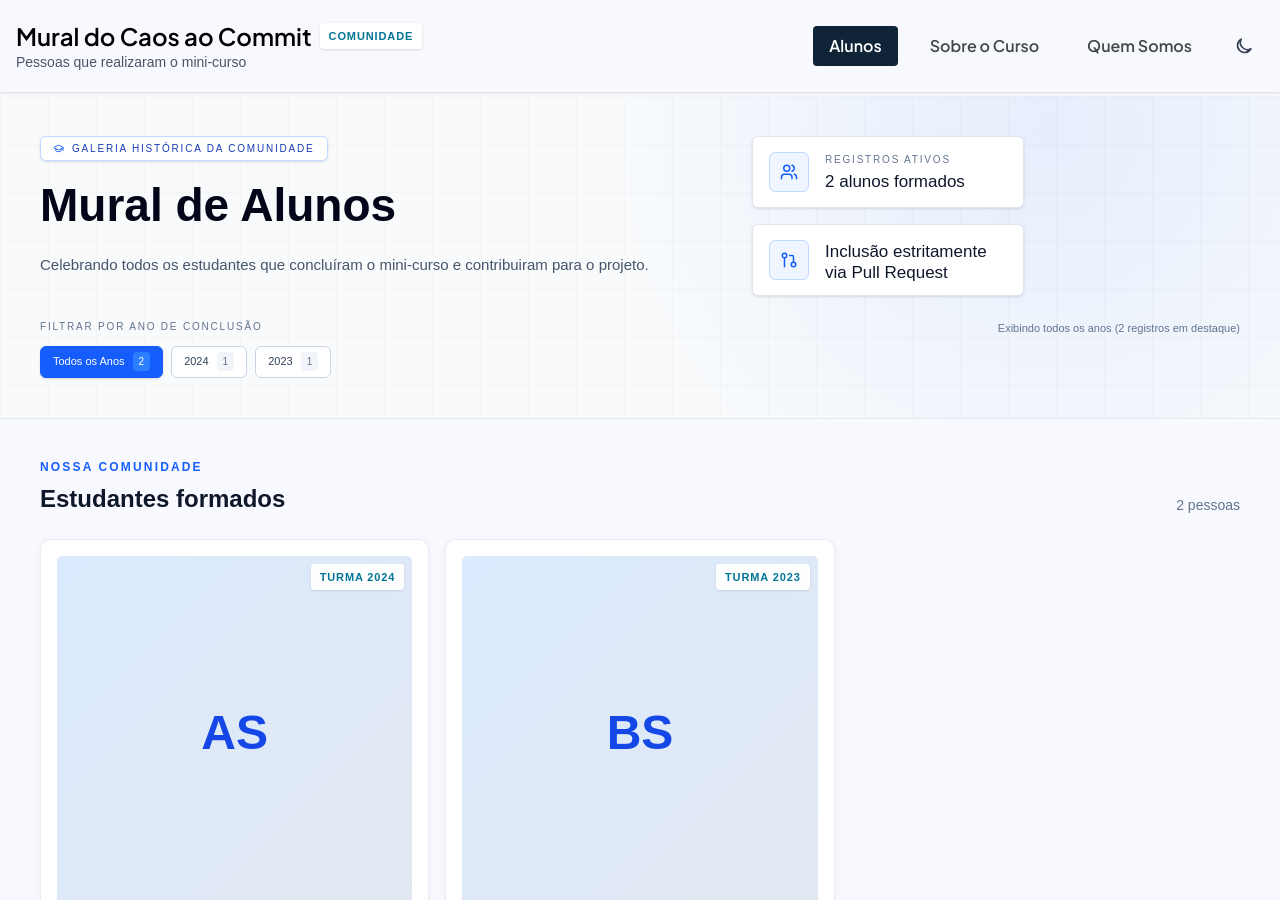
Test: tela do mural de estudantes › filtra os cards pelo ano escolhido
What coordinates should you click on to do the following:
click the button "2024 1"
I would click on:
 (209, 362)
Its box is [171,346,247,378].
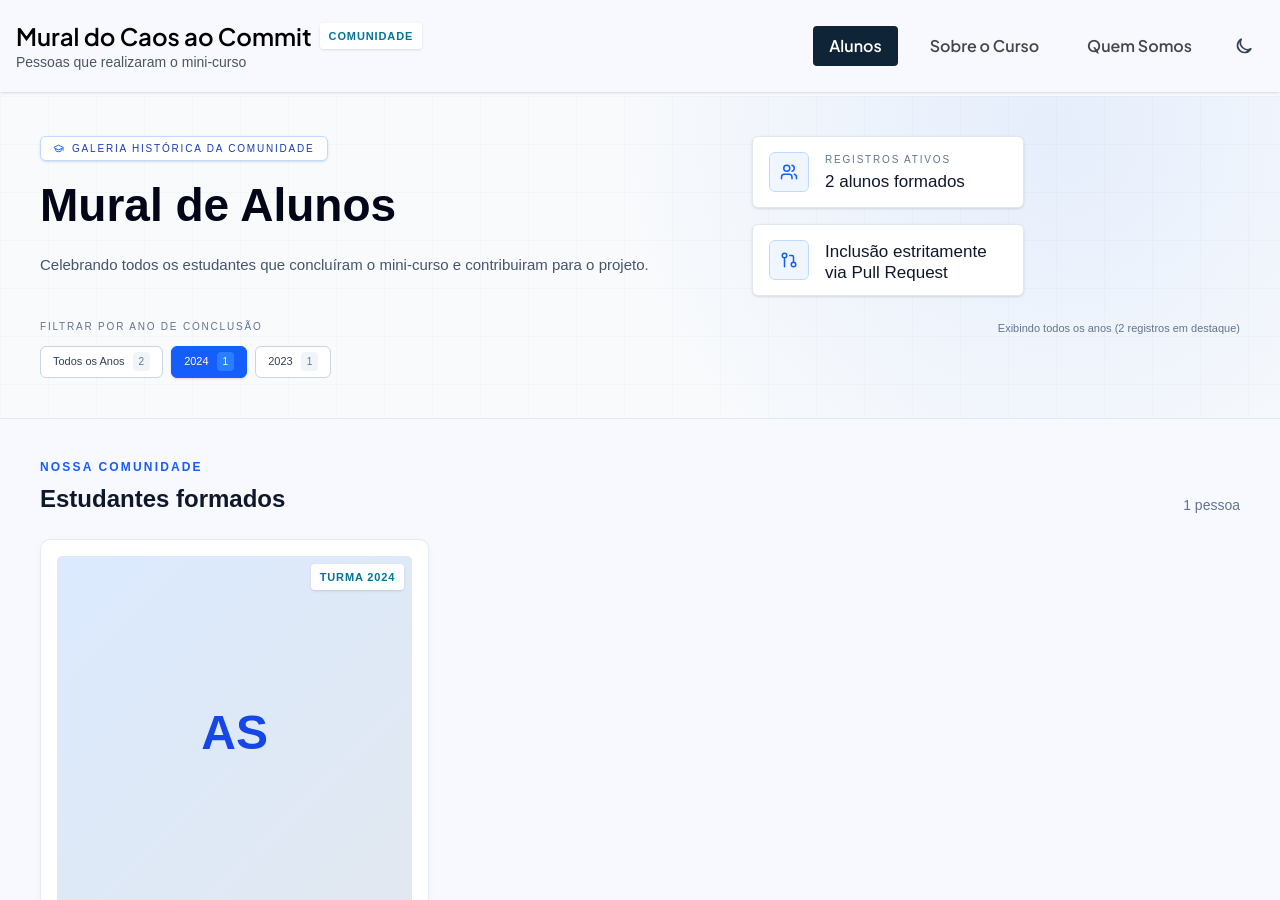
expect the text "1 pessoa" is shown: met, box [1183,494,1240,514]
